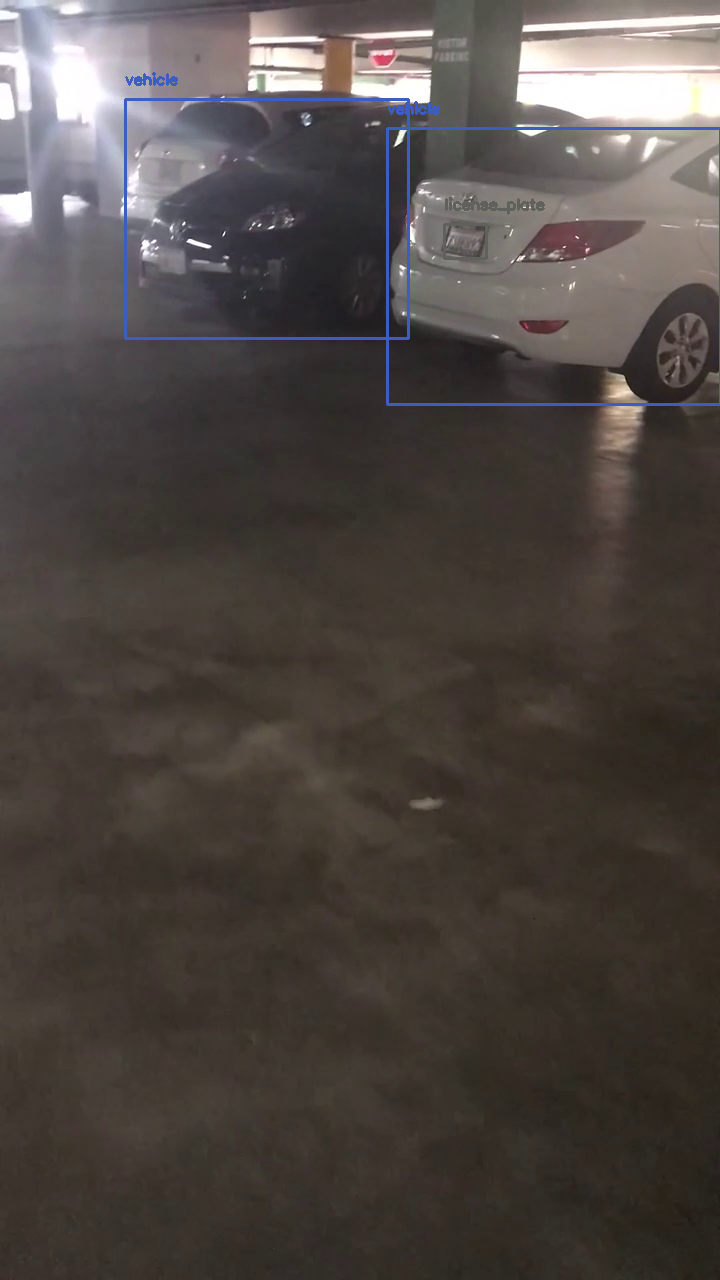license_plate: (444, 224, 486, 258)
vehicle: (387, 128, 720, 404), (125, 99, 408, 338)
